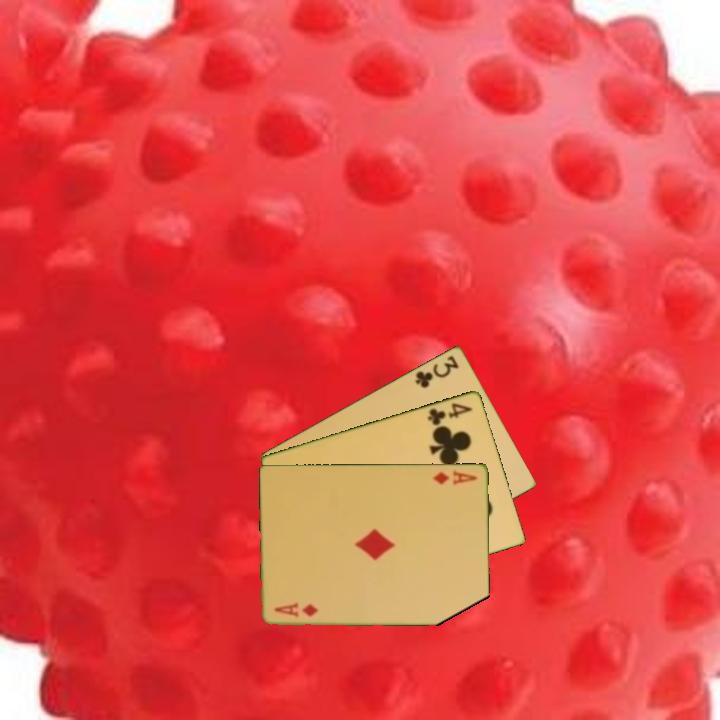3c: (412, 352, 462, 391)
4c: (424, 399, 476, 428)
Ad: (271, 599, 321, 620), (430, 467, 480, 487)
